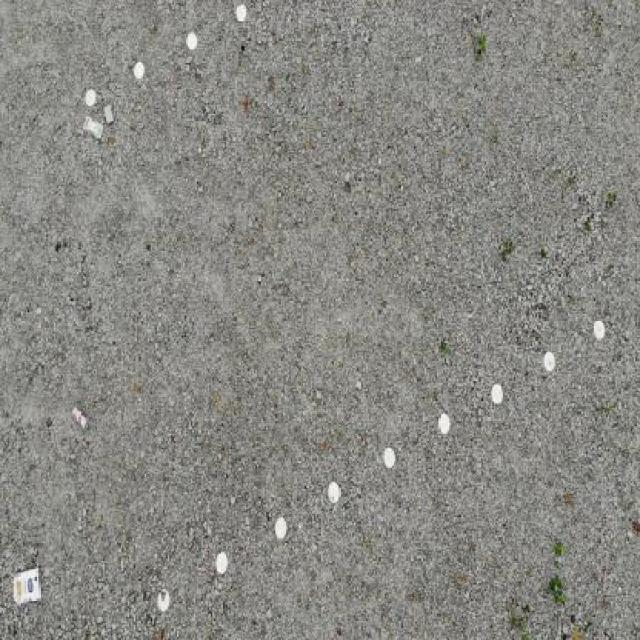Garbage: (13, 565, 40, 607), (82, 115, 103, 140), (71, 405, 89, 433), (102, 103, 114, 124)
